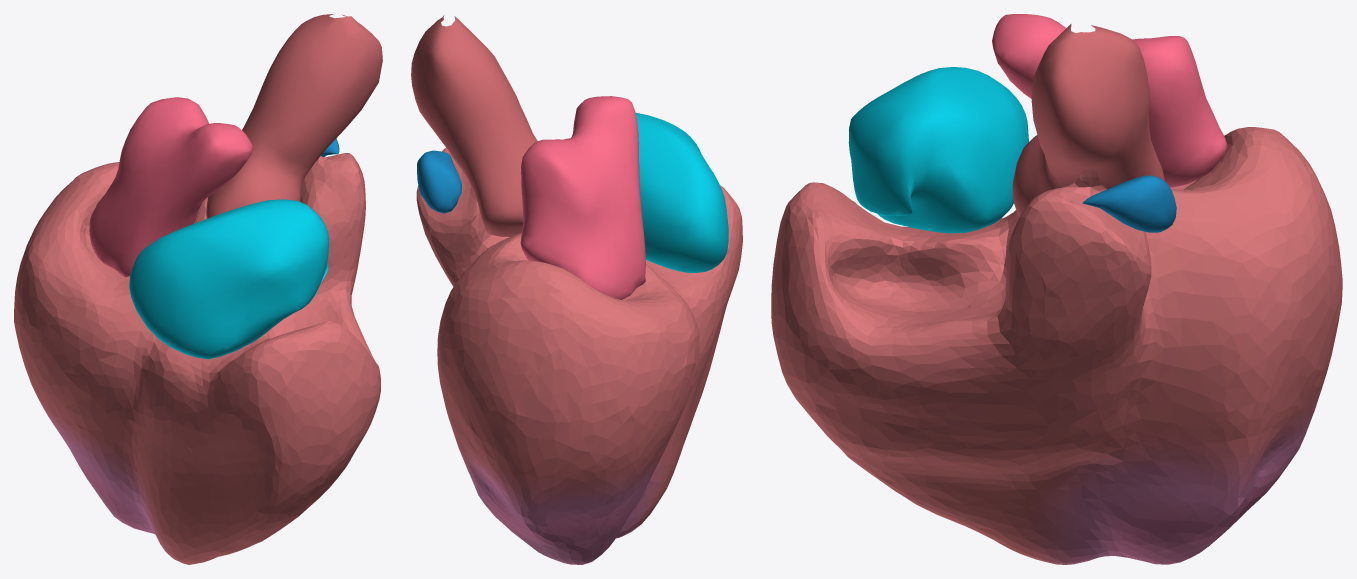
File: frame_62.glb
The picture shows the model from 3 angles, left to right: view 1: azimuth 30°, elevation 25°; view 2: azimuth 150°, elevation 25°; view 3: azimuth 270°, elevation 25°; orthographic projection. The views are drawn at different scales.
Visible parts, largest first — view 1: Renderer Node; view 2: Renderer Node; view 3: Renderer Node.
Boxes of the visible parts, <box> form: Renderer Node: <box>14,14,382,564</box>; Renderer Node: <box>411,15,742,564</box>; Renderer Node: <box>771,14,1342,564</box>.
Bounding box in the file's own units: 102 × 158 × 129.
